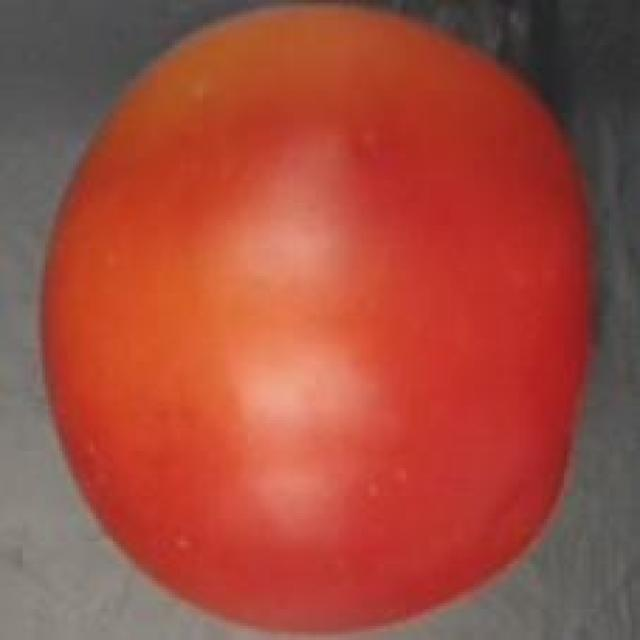ripe tomato: (28, 0, 606, 632)
